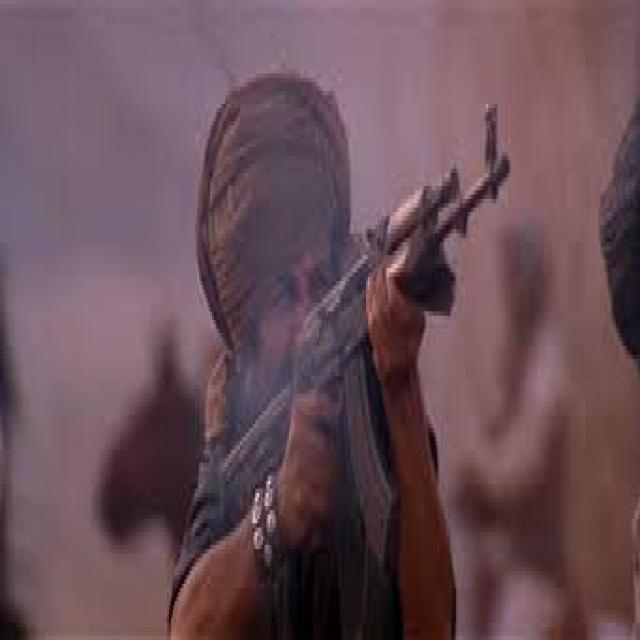weapon: (227, 100, 517, 606)
